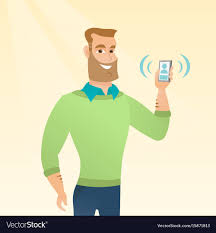white_male: (85, 34, 123, 83)
